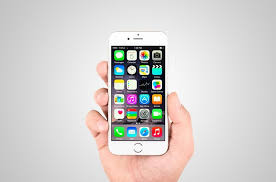iphone: (106, 29, 171, 159)
iphone6: (105, 29, 170, 159)
